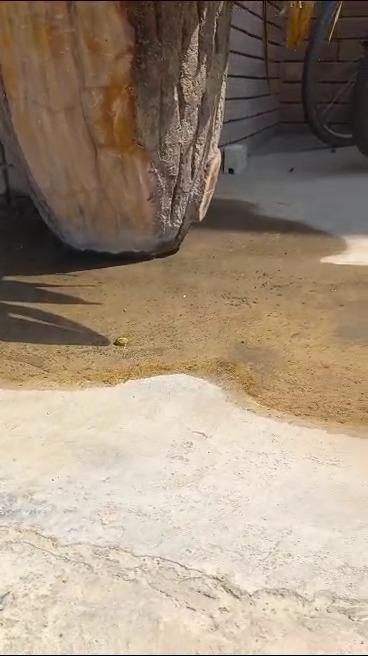water accumulation: (0, 176, 368, 438)
